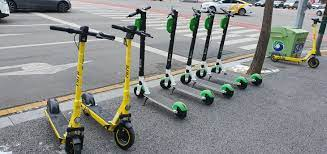kick_board: (44, 25, 115, 153)
kick_body: (53, 113, 69, 135)
kick_handler: (51, 26, 115, 43), (112, 25, 153, 39), (128, 6, 151, 16), (191, 7, 201, 18), (221, 9, 234, 17)
kick_neck: (75, 44, 85, 121), (124, 41, 131, 109), (167, 19, 175, 67), (138, 39, 146, 79)
kick_wheel: (115, 123, 134, 149), (174, 103, 186, 118), (203, 91, 215, 105), (250, 73, 262, 86), (46, 98, 57, 112), (159, 78, 172, 89), (237, 77, 247, 90), (224, 84, 233, 98), (135, 84, 144, 98), (196, 68, 206, 78), (181, 73, 190, 84), (211, 65, 221, 74)
